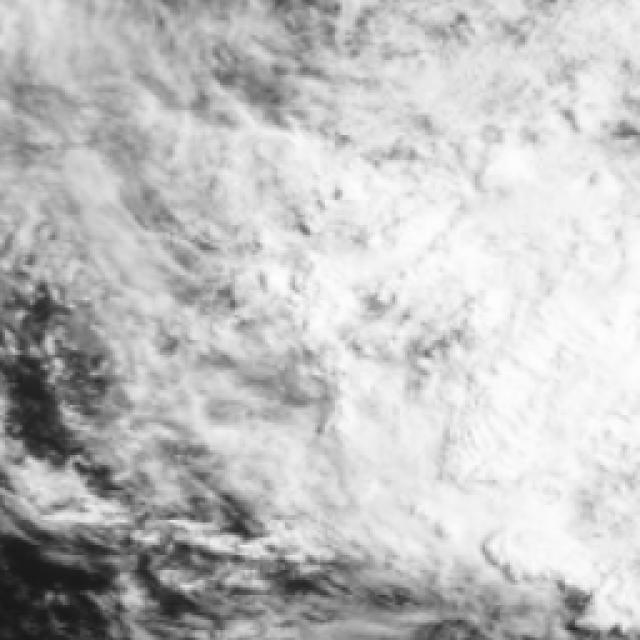CB: (482, 155, 640, 413)
